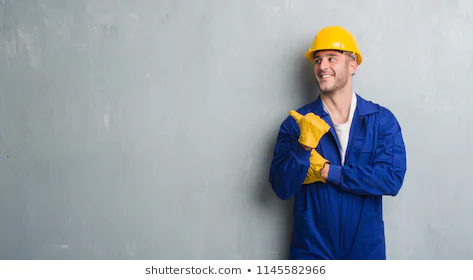Person_wearing_helmet: (302, 15, 365, 67)
